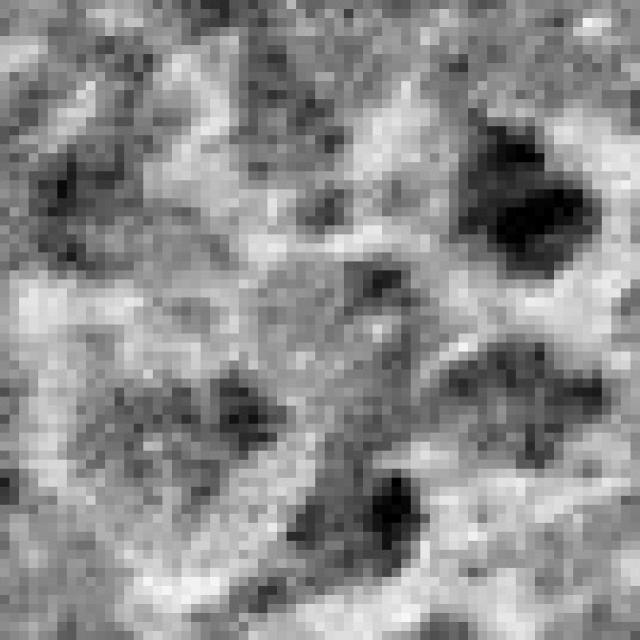inner: (245, 250, 472, 453)
lobe: (69, 358, 307, 560), (182, 451, 436, 634), (10, 92, 238, 279), (419, 111, 614, 293), (404, 330, 622, 474), (225, 24, 363, 243)
outer: (0, 7, 640, 640)
